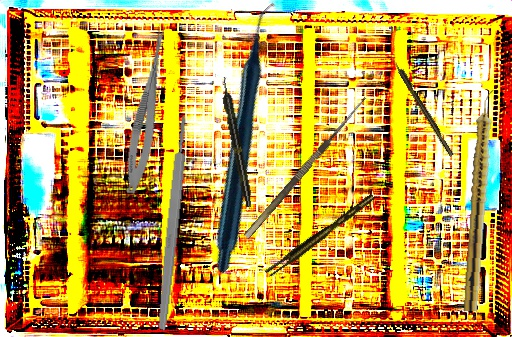Handpiece: (111, 1, 384, 275), (462, 89, 498, 312), (218, 76, 255, 208)
Hook Surgical: (236, 89, 369, 240), (389, 54, 455, 158)
Micro Scissor: (121, 20, 171, 197)
Scalpel Handle: (155, 113, 191, 333)
Tissue Forceps: (262, 193, 379, 279)
